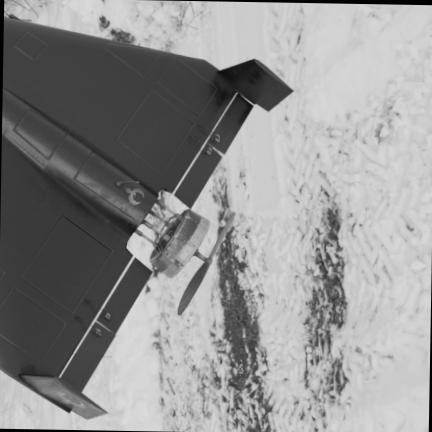Shahed: (0, 14, 291, 417)
